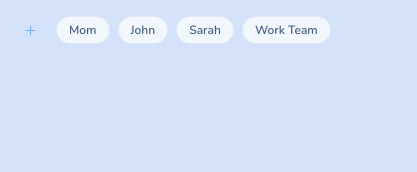
Scenario: TagInput › Tag Creation › cancels tag creation when Escape is pressed
The width and height of the screenshot is (417, 172).
Click the button named "Add new people tag": (30, 30) [12, 12, 48, 48]
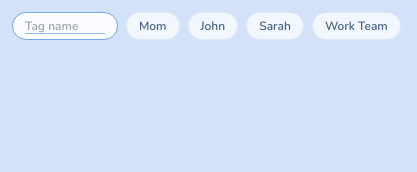
In the field named "New people tag name": (65, 26) [25, 18, 105, 34], type "New Person"
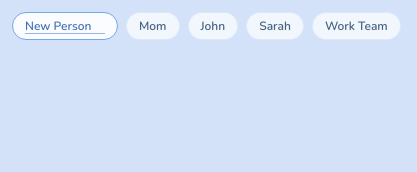
Press Escape in the field named "New people tag name", box [25, 18, 105, 34]
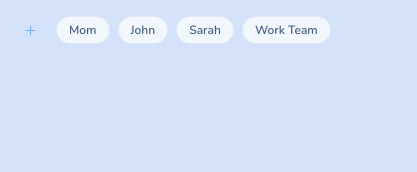
Check: the button named "Add new people tag" is shown, box [12, 12, 48, 48]
